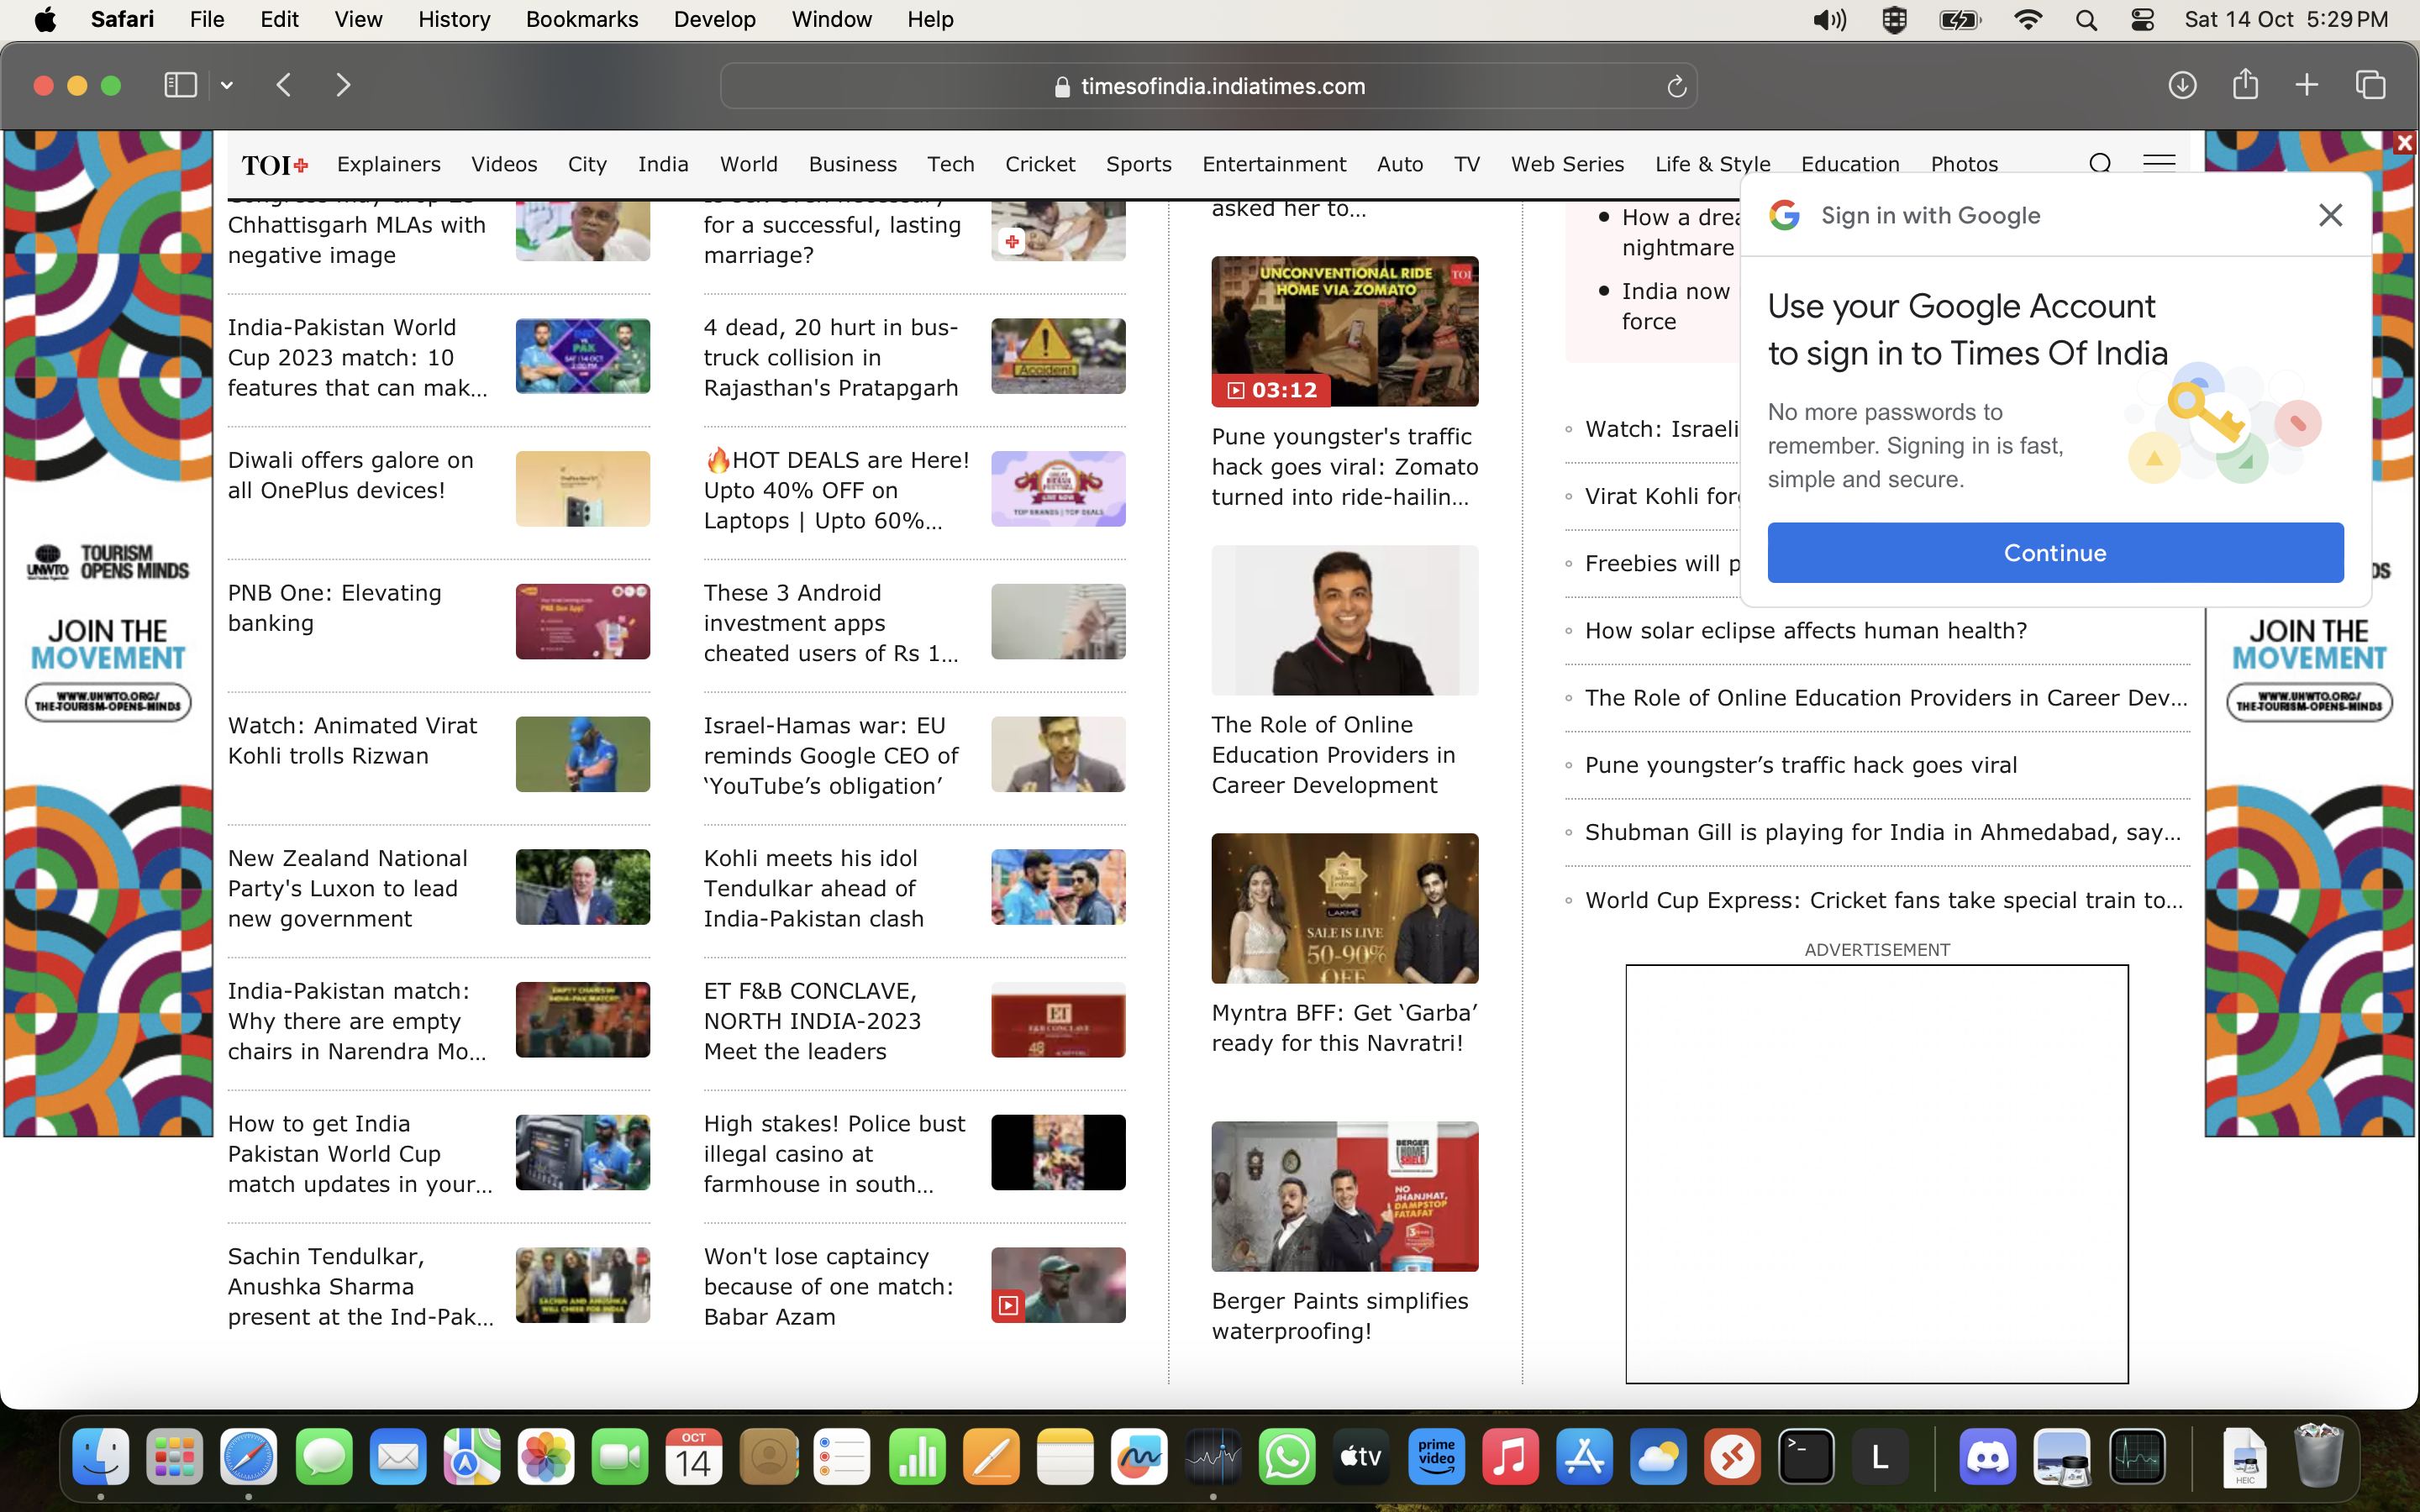Image: (17, 134, 206, 1144), (2209, 669, 2408, 1141), (1214, 1122, 1477, 1282), (1211, 254, 1477, 404), (1228, 538, 1472, 693), (1225, 850, 1477, 984), (514, 449, 648, 531), (991, 315, 1129, 394), (995, 1244, 1129, 1324), (514, 315, 645, 397), (995, 446, 1126, 524), (998, 195, 1129, 273), (521, 991, 648, 1066), (510, 850, 638, 921), (995, 584, 1126, 651), (521, 1251, 645, 1320), (531, 1115, 641, 1193), (521, 596, 648, 662), (998, 1125, 1122, 1193), (1002, 726, 1115, 800), (517, 723, 648, 786), (1002, 854, 1122, 918), (995, 988, 1129, 1045), (521, 209, 648, 247)
Paragraph: (1760, 270, 2181, 378), (1565, 864, 2181, 932), (1584, 669, 2192, 726), (700, 559, 967, 683), (690, 1094, 977, 1207), (686, 822, 957, 942), (693, 294, 974, 408), (209, 1235, 484, 1350), (700, 1232, 963, 1350), (1214, 697, 1477, 812), (1193, 418, 1484, 517), (1756, 404, 2079, 493), (697, 700, 970, 803), (693, 963, 939, 1077), (220, 305, 497, 404), (223, 1101, 481, 1207), (697, 439, 981, 535), (1204, 981, 1495, 1073), (213, 429, 493, 521), (1572, 603, 2054, 655), (216, 991, 484, 1083), (223, 840, 477, 935), (220, 556, 470, 651), (1587, 810, 2178, 850), (1575, 744, 2040, 793), (1211, 1282, 1491, 1353), (220, 195, 493, 268), (226, 700, 474, 775), (697, 209, 974, 270), (1803, 199, 2079, 240), (2223, 610, 2394, 676), (28, 610, 185, 676), (2011, 538, 2120, 573)
